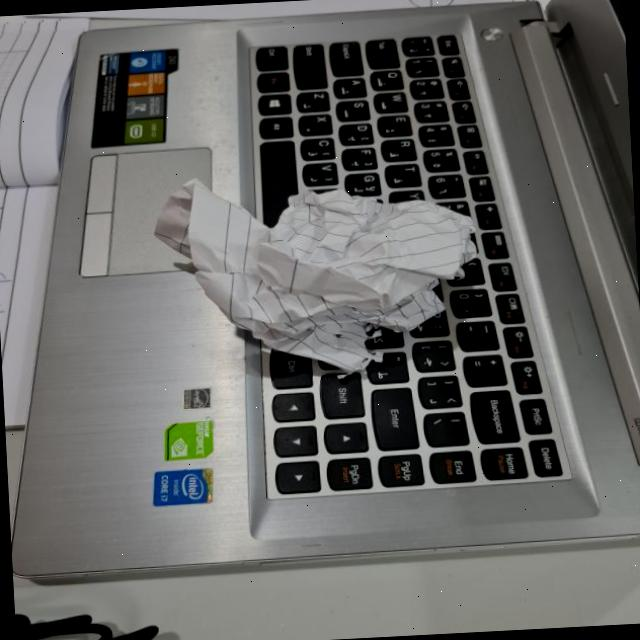trash: (174, 176, 499, 372)
